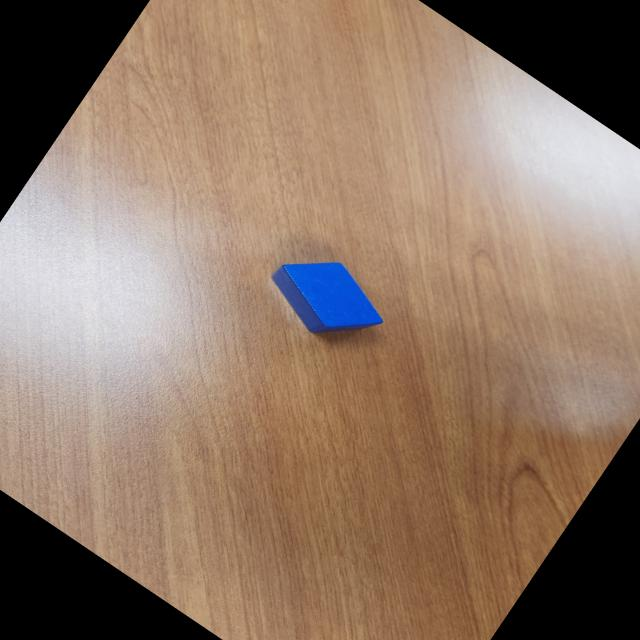blue: (256, 234, 398, 364)
